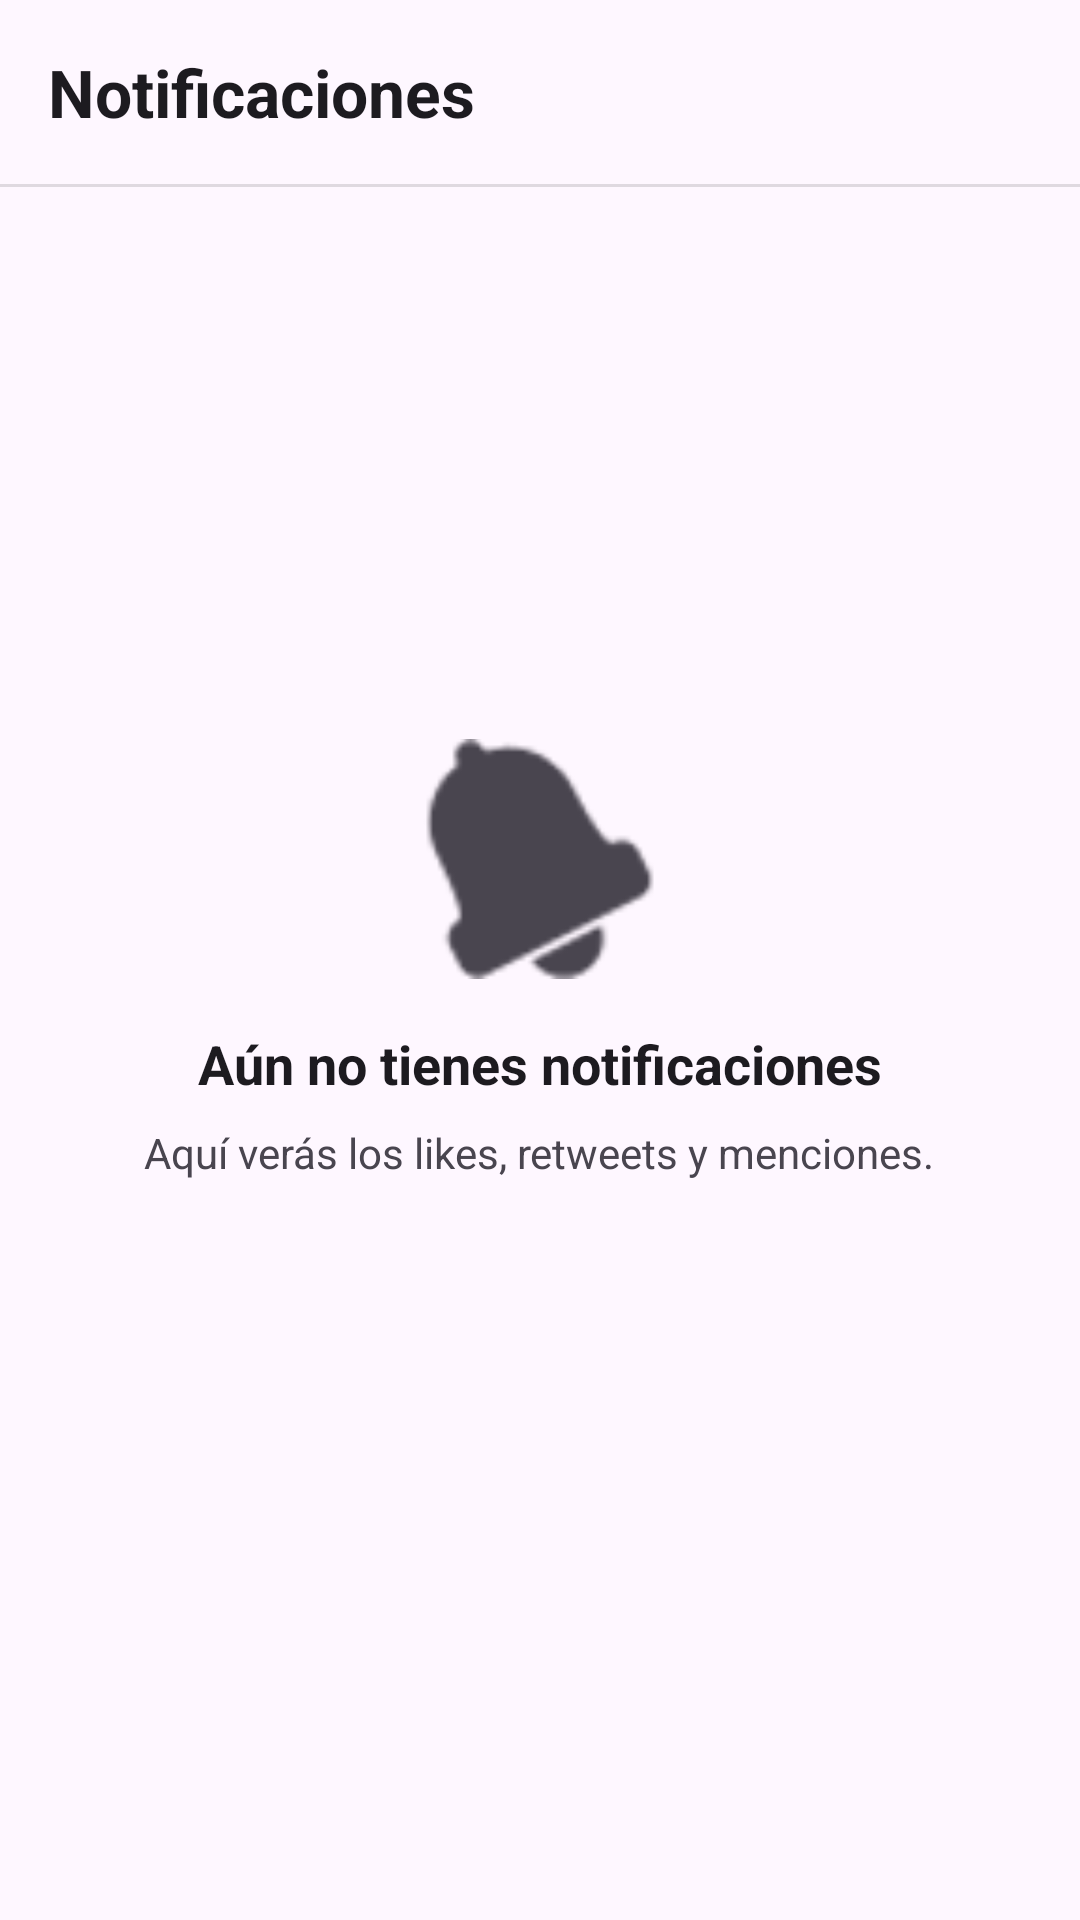

Icon click points for this 1080px x 1920px phone screenshot, format [x,y]:
popup reminder: [540,859]
